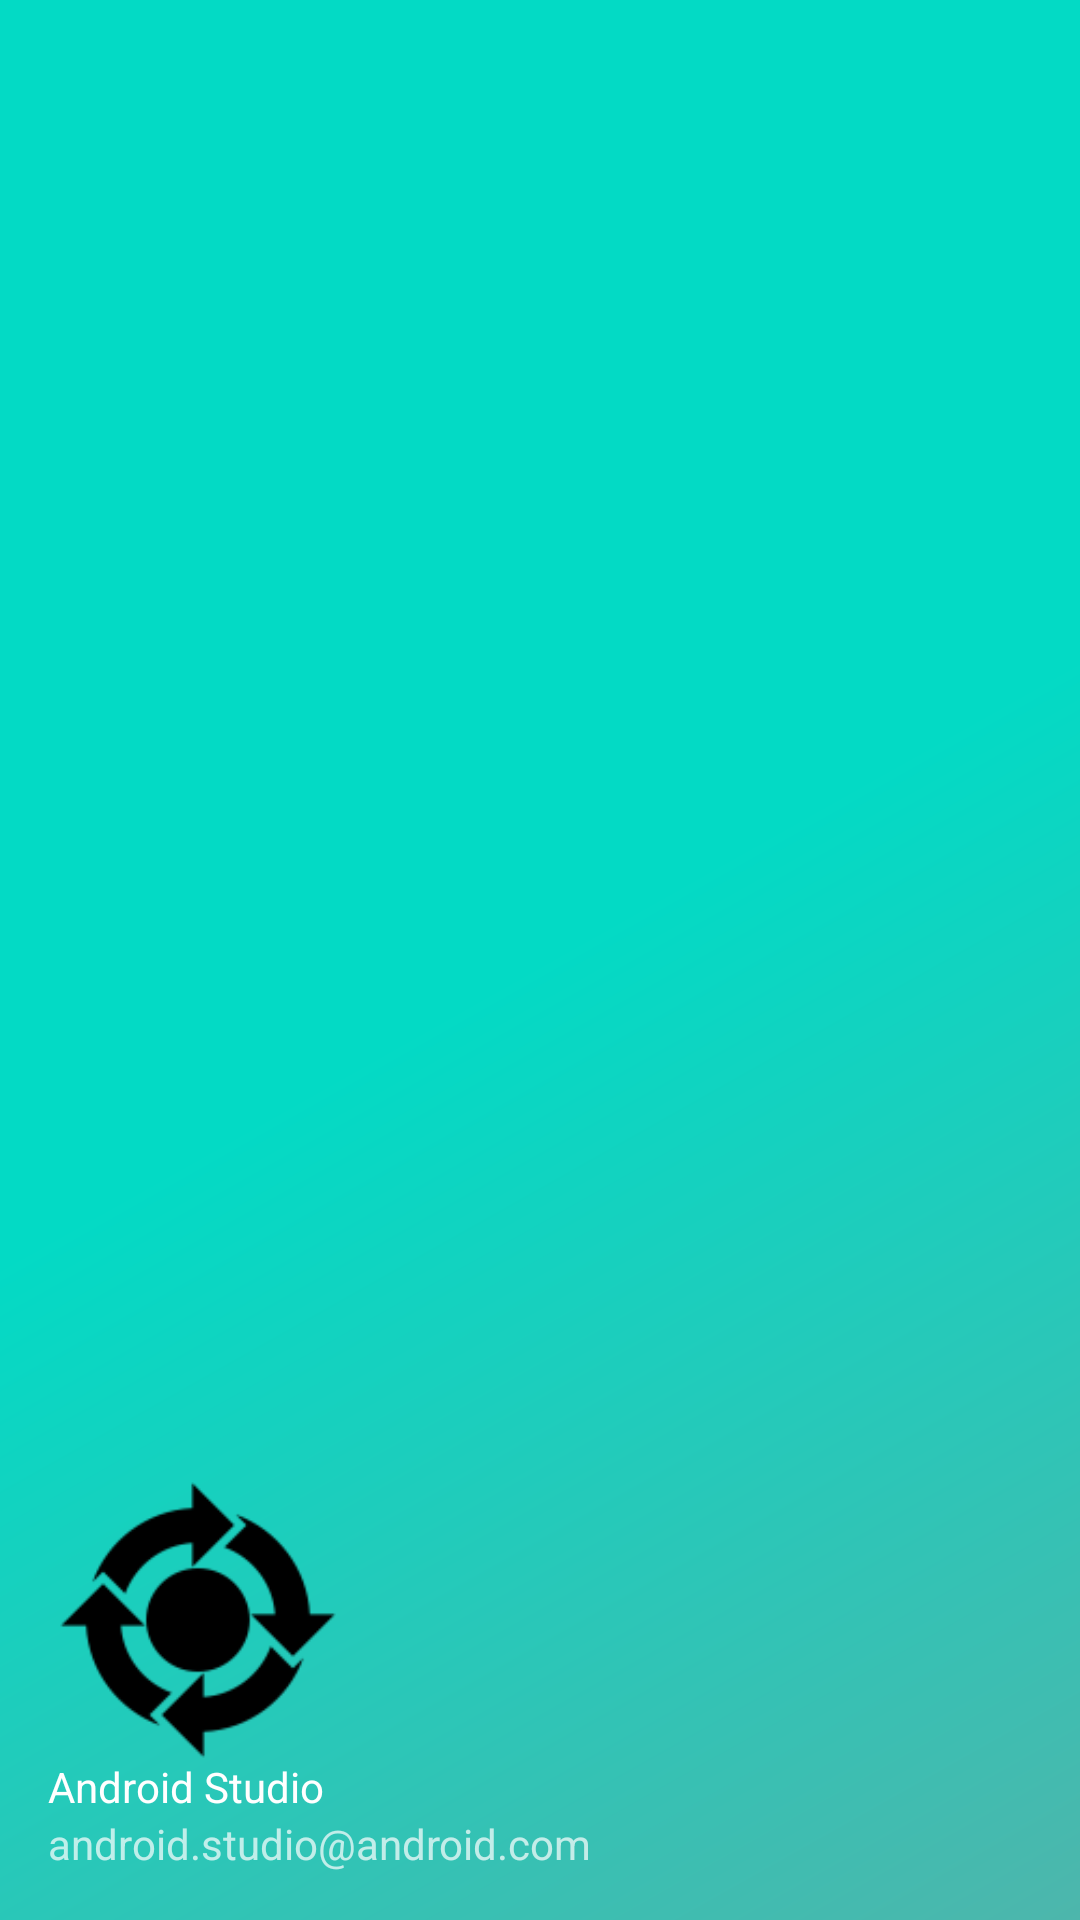

Screen size 1080x1920. Icon name, then its box in pixels as box(x1, y1, x2, y2):
turn: box(61, 1483, 335, 1757)
